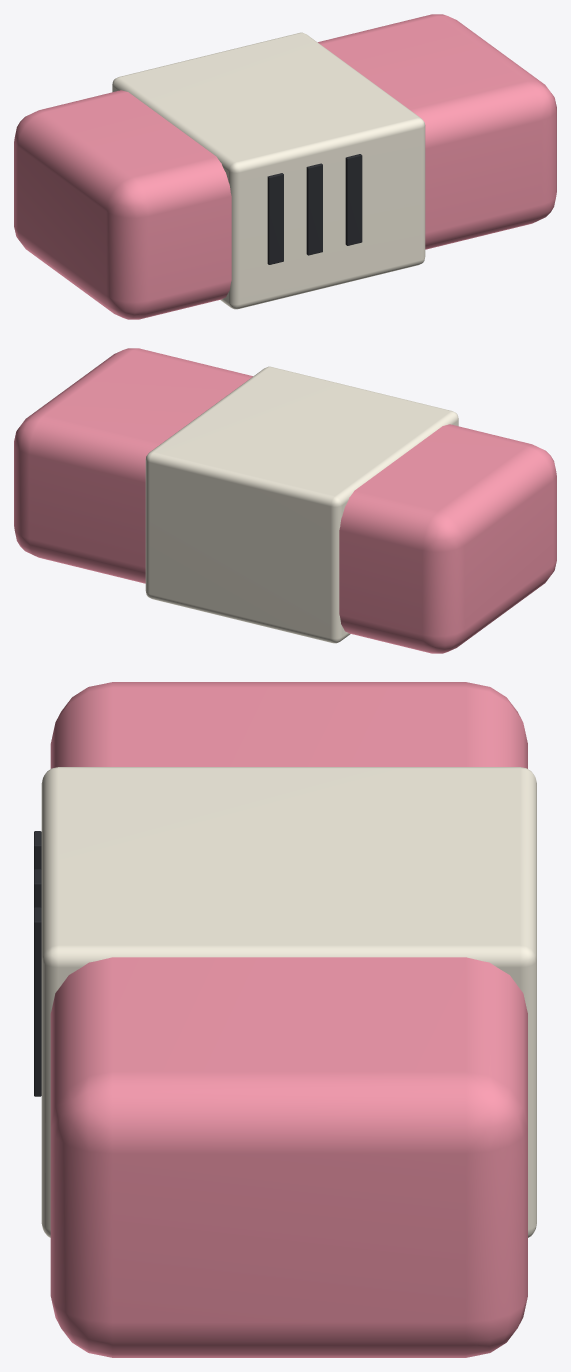
Rendered from eraser.glb.
3 renders of one model, top to bottom at view 1: azimuth 30°, elevation 25°; view 2: azimuth 150°, elevation 25°; view 3: azimuth 270°, elevation 25°, orthographic. The views are drawn at different scales.
Visible parts, largest first — view 1: Eraser - rubber body, Eraser - paper wrapper, Eraser wrapper stripe 2, Eraser wrapper stripe 1, Eraser wrapper stripe 0; view 2: Eraser - rubber body, Eraser - paper wrapper; view 3: Eraser - rubber body, Eraser - paper wrapper, Eraser wrapper stripe 2.
Boxes of the visible parts, box(x1,y1,x2,y2) form: Eraser - rubber body: box(14, 14, 556, 319); Eraser - paper wrapper: box(112, 32, 425, 309); Eraser wrapper stripe 2: box(345, 154, 362, 245); Eraser wrapper stripe 1: box(306, 163, 322, 255); Eraser wrapper stripe 0: box(267, 173, 283, 264); Eraser - rubber body: box(14, 348, 556, 653); Eraser - paper wrapper: box(145, 366, 458, 643); Eraser - rubber body: box(50, 682, 527, 1357); Eraser - paper wrapper: box(41, 767, 536, 1237); Eraser wrapper stripe 2: box(34, 907, 41, 1096).
Size of the model in its own units: 0.8 by 0.251 by 0.39.
